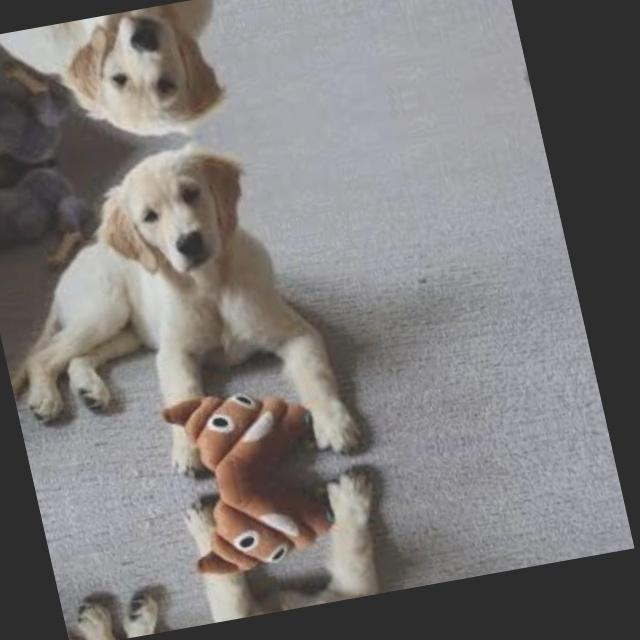dog: (88, 132, 262, 298), (57, 0, 230, 154)
